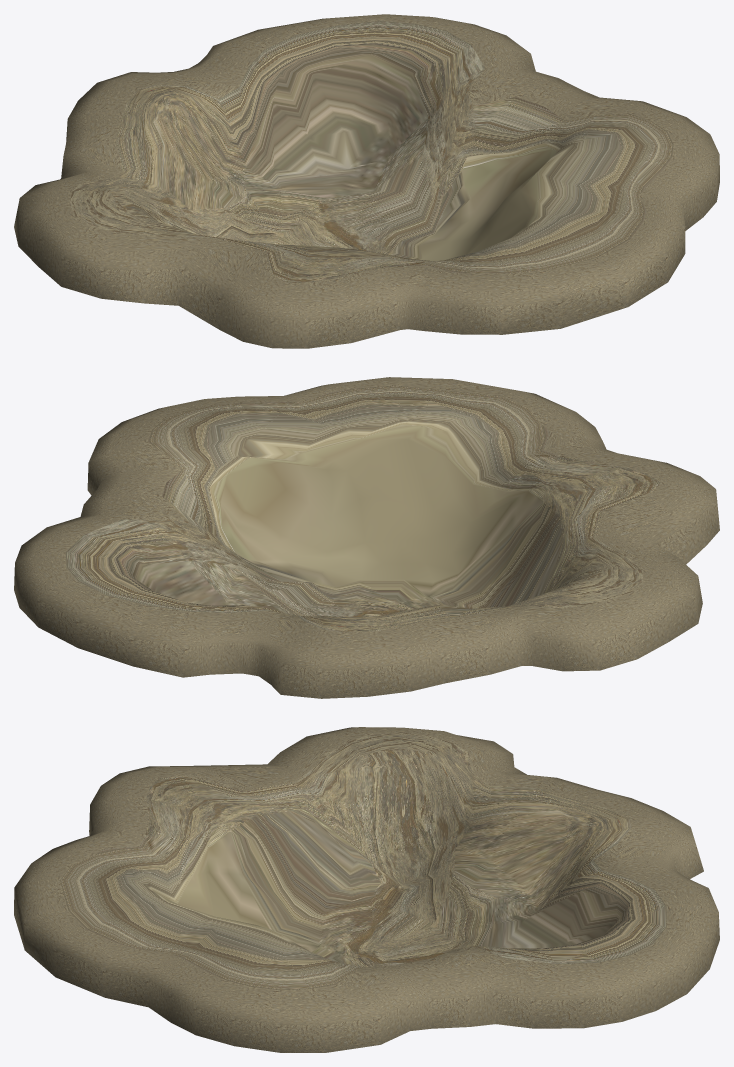
File: saltmine_floor_pool_01.dae
3 renders of one model, top to bottom at view 1: azimuth 30°, elevation 25°; view 2: azimuth 150°, elevation 25°; view 3: azimuth 270°, elevation 25°, orthographic.
Visible parts, largest first — view 1: floor_pool_1; view 2: floor_pool_1; view 3: floor_pool_1.
Part boxes in pixels (box(x1,y1,x2,y2)): floor_pool_1: box(14, 14, 719, 348); floor_pool_1: box(14, 377, 719, 698); floor_pool_1: box(14, 727, 719, 1052).
Bounding box in the file's own units: 6.31 × 1.06 × 6.3.
